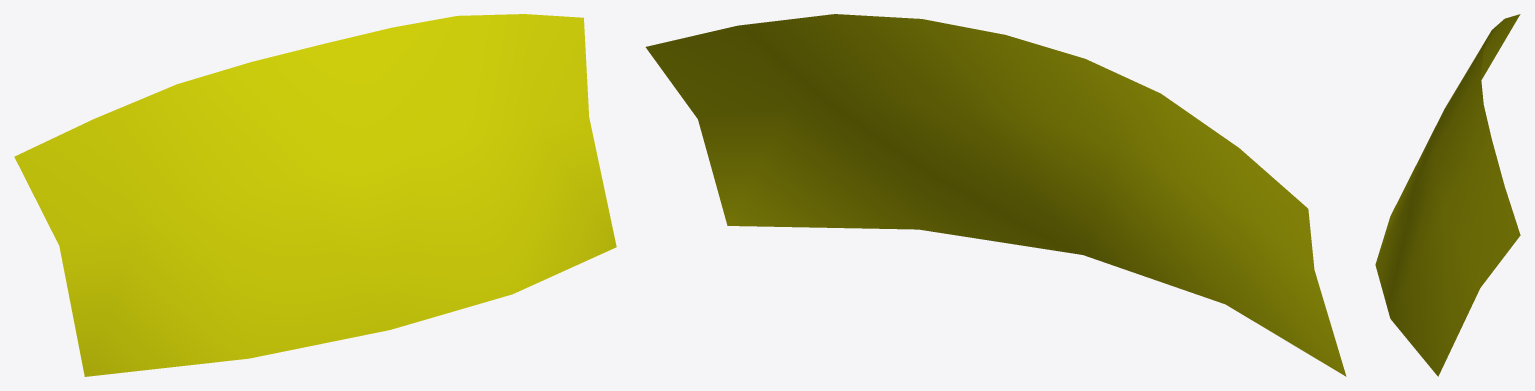
The model's file is Forehead1_3.glb.
The picture shows the model from 3 angles, left to right: view 1: azimuth 30°, elevation 25°; view 2: azimuth 150°, elevation 25°; view 3: azimuth 270°, elevation 25°; orthographic projection. The views are drawn at different scales.
Size of the model in its own units: 30.36 by 12.66 by 8.42.
